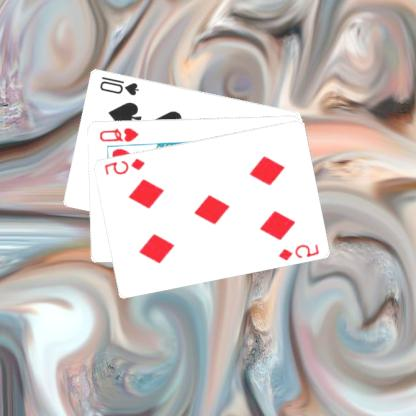10S: (98, 73, 142, 97)
5D: (103, 156, 148, 177), (277, 241, 322, 262)
QH: (98, 124, 142, 143)
